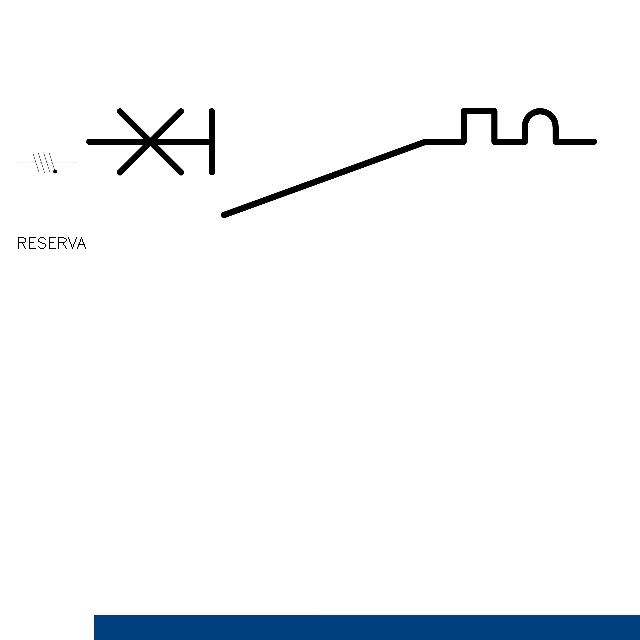interruptor_termomagnetico: (76, 98, 607, 228)
